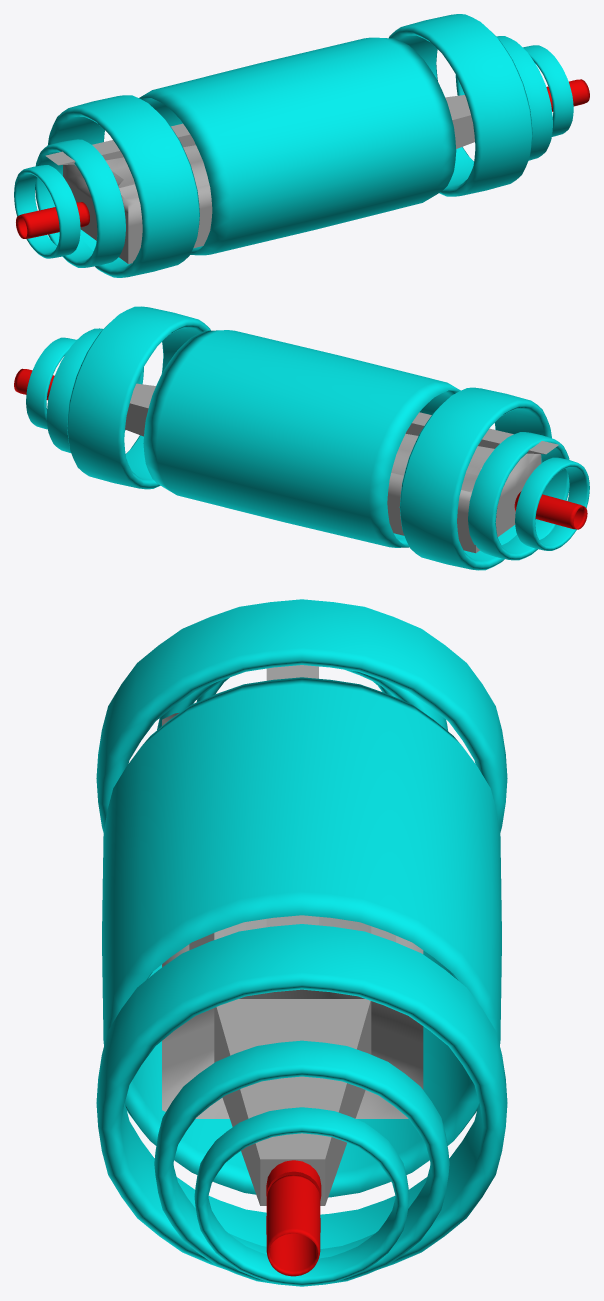
Rendered from S_Body.fbx.
3 views of the same model, one above another, from view 1: azimuth 30°, elevation 25°; view 2: azimuth 150°, elevation 25°; view 3: azimuth 270°, elevation 25° (orthographic). The views are drawn at different scales.
Visible parts, largest first — view 1: Spaceship_body_transform; view 2: Spaceship_body_transform; view 3: Spaceship_body_transform.
Boxes of the visible parts, x1,y1,x2,y2 form: Spaceship_body_transform: (14, 14, 589, 277); Spaceship_body_transform: (14, 306, 589, 570); Spaceship_body_transform: (96, 599, 507, 1286).
Size of the model in its own units: 19.58 by 5.19 by 6.2.
